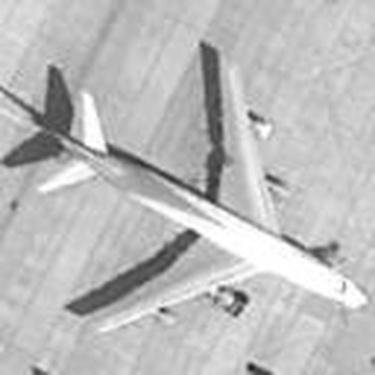airplane: (16, 44, 374, 333)
